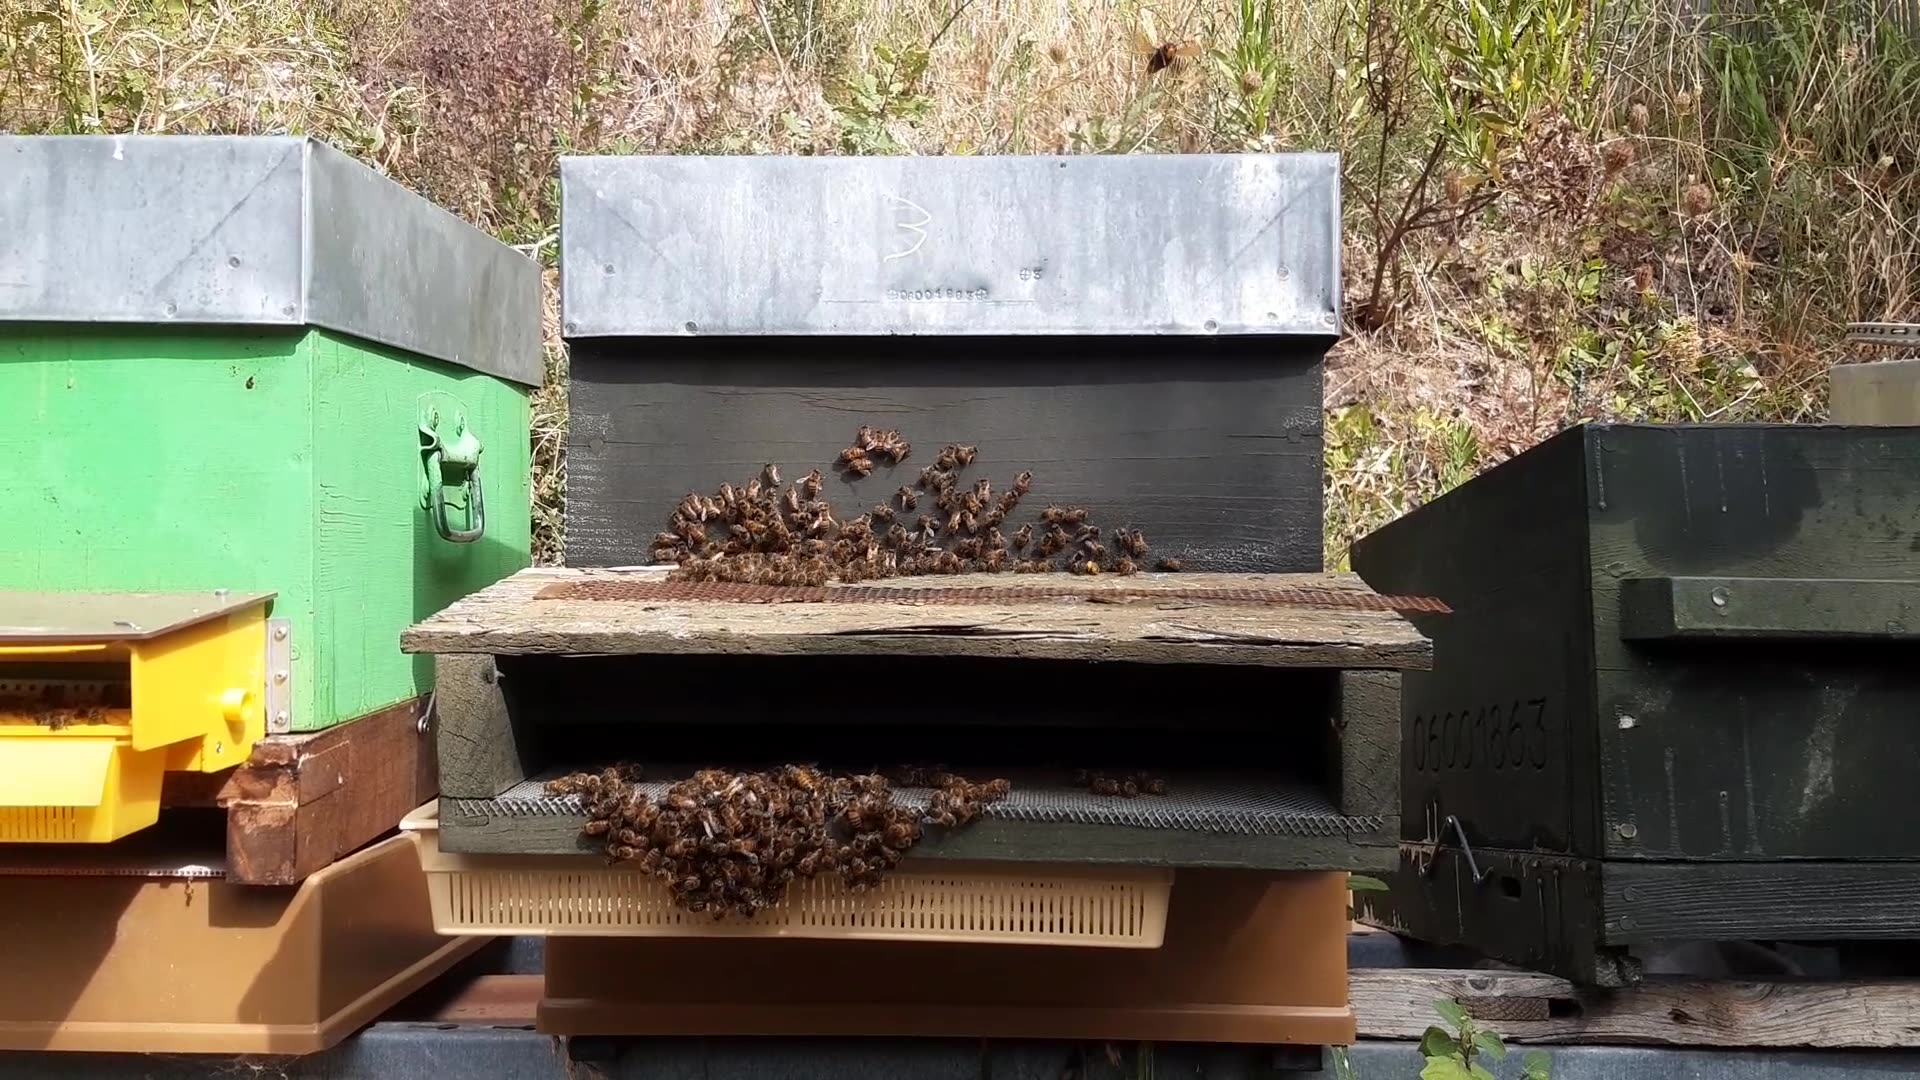bee: (651, 856, 731, 935), (855, 518, 920, 593), (911, 781, 998, 832), (1038, 505, 1118, 560), (832, 855, 897, 922), (717, 506, 793, 556), (556, 786, 625, 839), (943, 518, 1004, 578), (853, 450, 927, 497), (940, 471, 1002, 521), (752, 480, 806, 526)
